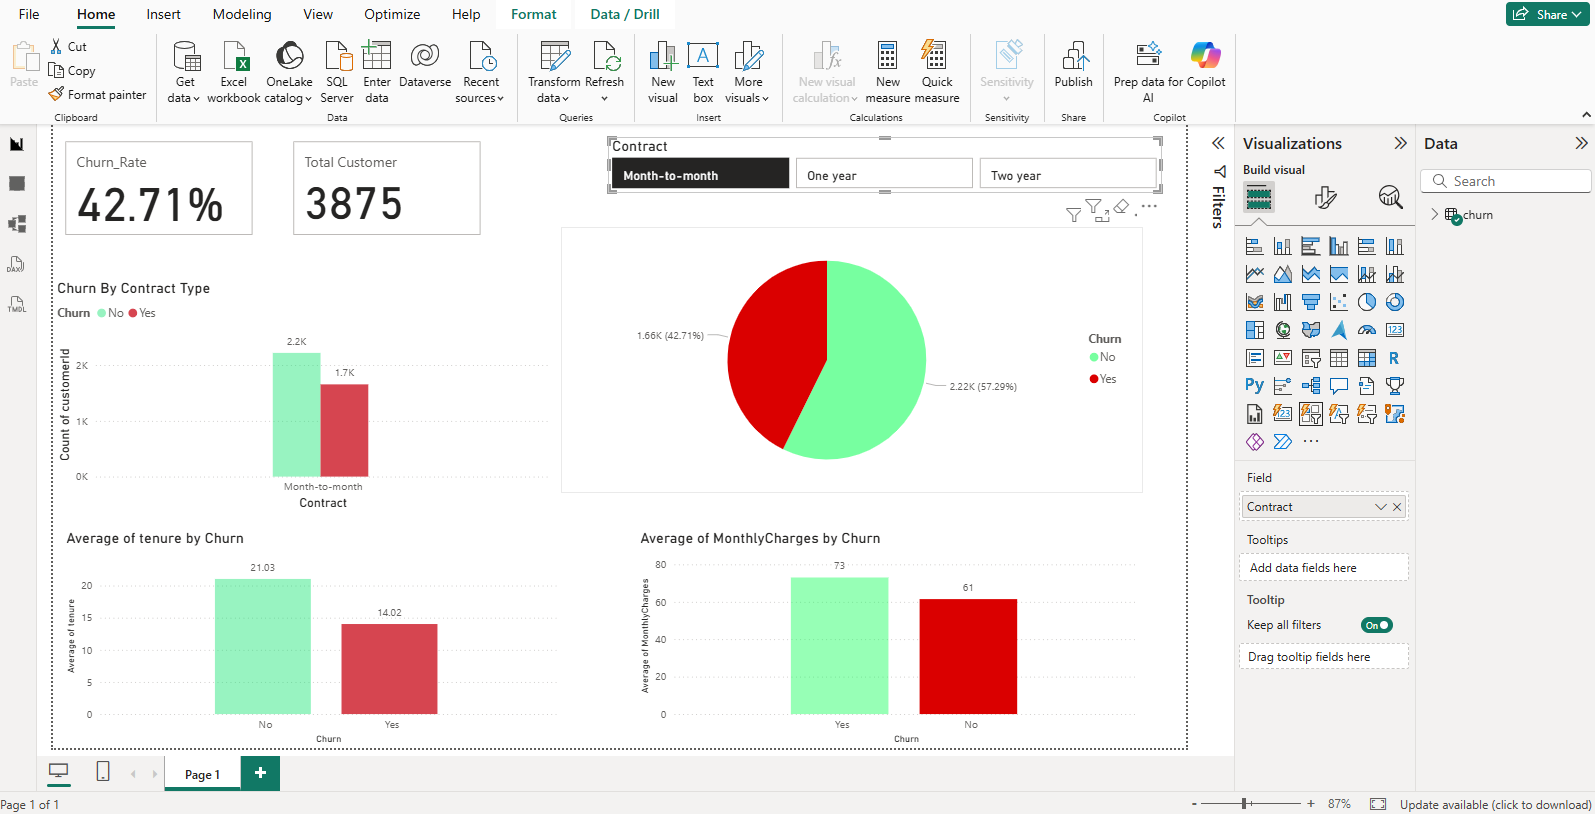

What the dashboard file says about the page in this screenshot:
{"tool":"powerbi","page":{"name":"Page 1","canvas":[1307,720],"ordinal":0},"visuals":[{"type":"cardVisual","title":"Total Customer","fields":{"Data":["Count(churn.customerId)"]},"box":[272.3,15.6,226.6,118.7],"z":0},{"type":"cardVisual","fields":{"Data":["churn.Churn_Rate"]},"box":[9.7,15.6,226.6,118.7],"z":1000},{"type":"clusteredColumnChart","title":"Churn By Contract Type","fields":{"Category":["churn.Contract"],"Series":["churn.Churn"],"Y":["CountNonNull(churn.customerId)"]},"box":[0,179.1,578.5,271.3],"z":2000},{"type":"clusteredColumnChart","fields":{"Category":["churn.Churn"],"Y":["Avg(churn.MonthlyCharges)"]},"box":[672.5,467.5,584.8,252.5],"z":3000},{"type":"clusteredColumnChart","fields":{"Category":["churn.Churn"],"Y":["Avg(churn.tenure)"]},"box":[9.9,467.5,575.8,252.5],"z":4000},{"type":"advancedSlicerVisual","fields":{"Values":["churn.Contract"]},"box":[640.3,15.2,639.4,64.5],"z":5000},{"type":"pieChart","fields":{"Category":["churn.Churn"],"Y":["CountNonNull(churn.customerId)"]},"box":[585.7,119.1,671.6,307.2],"z":6000}]}

Visuals, with their boxes on the page's 1307x720 design canvas (x1, y1, x2, y2). These are canvas units, not pixel positions in the 1595x814 screenshot, which may show the page scaled, cropped or inside an application window:
"Total Customer" cardVisual: bbox=[272, 16, 499, 134]
cardVisual - churn.Churn_Rate: bbox=[10, 16, 236, 134]
"Churn By Contract Type" clusteredColumnChart: bbox=[0, 179, 578, 450]
clusteredColumnChart - churn.Churn x Avg(churn.MonthlyCharges): bbox=[672, 468, 1257, 720]
clusteredColumnChart - churn.Churn x Avg(churn.tenure): bbox=[10, 468, 586, 720]
advancedSlicerVisual - churn.Contract: bbox=[640, 15, 1280, 80]
pieChart - churn.Churn x CountNonNull(churn.customerId): bbox=[586, 119, 1257, 426]
